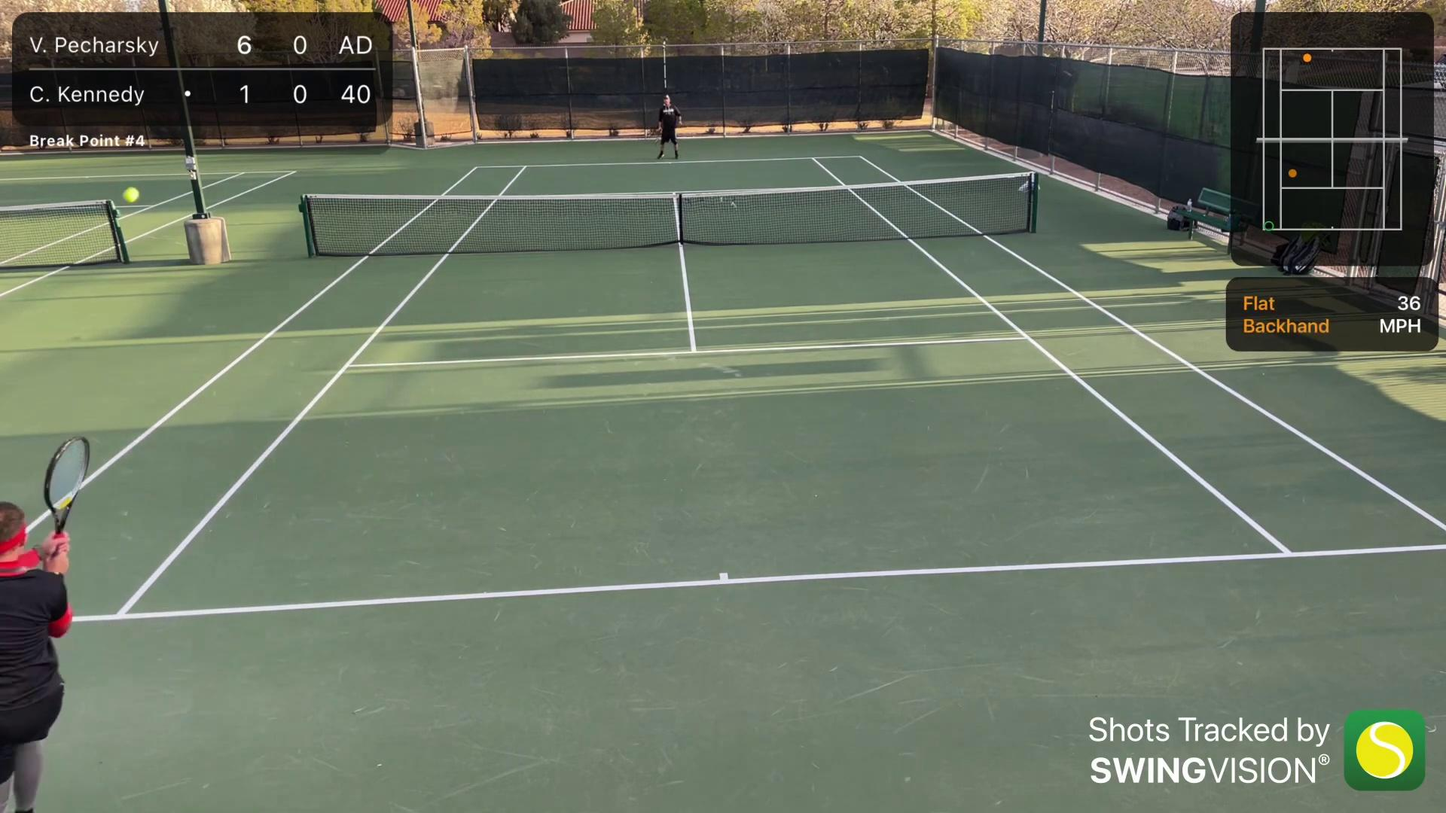ball: (121, 186, 142, 206)
